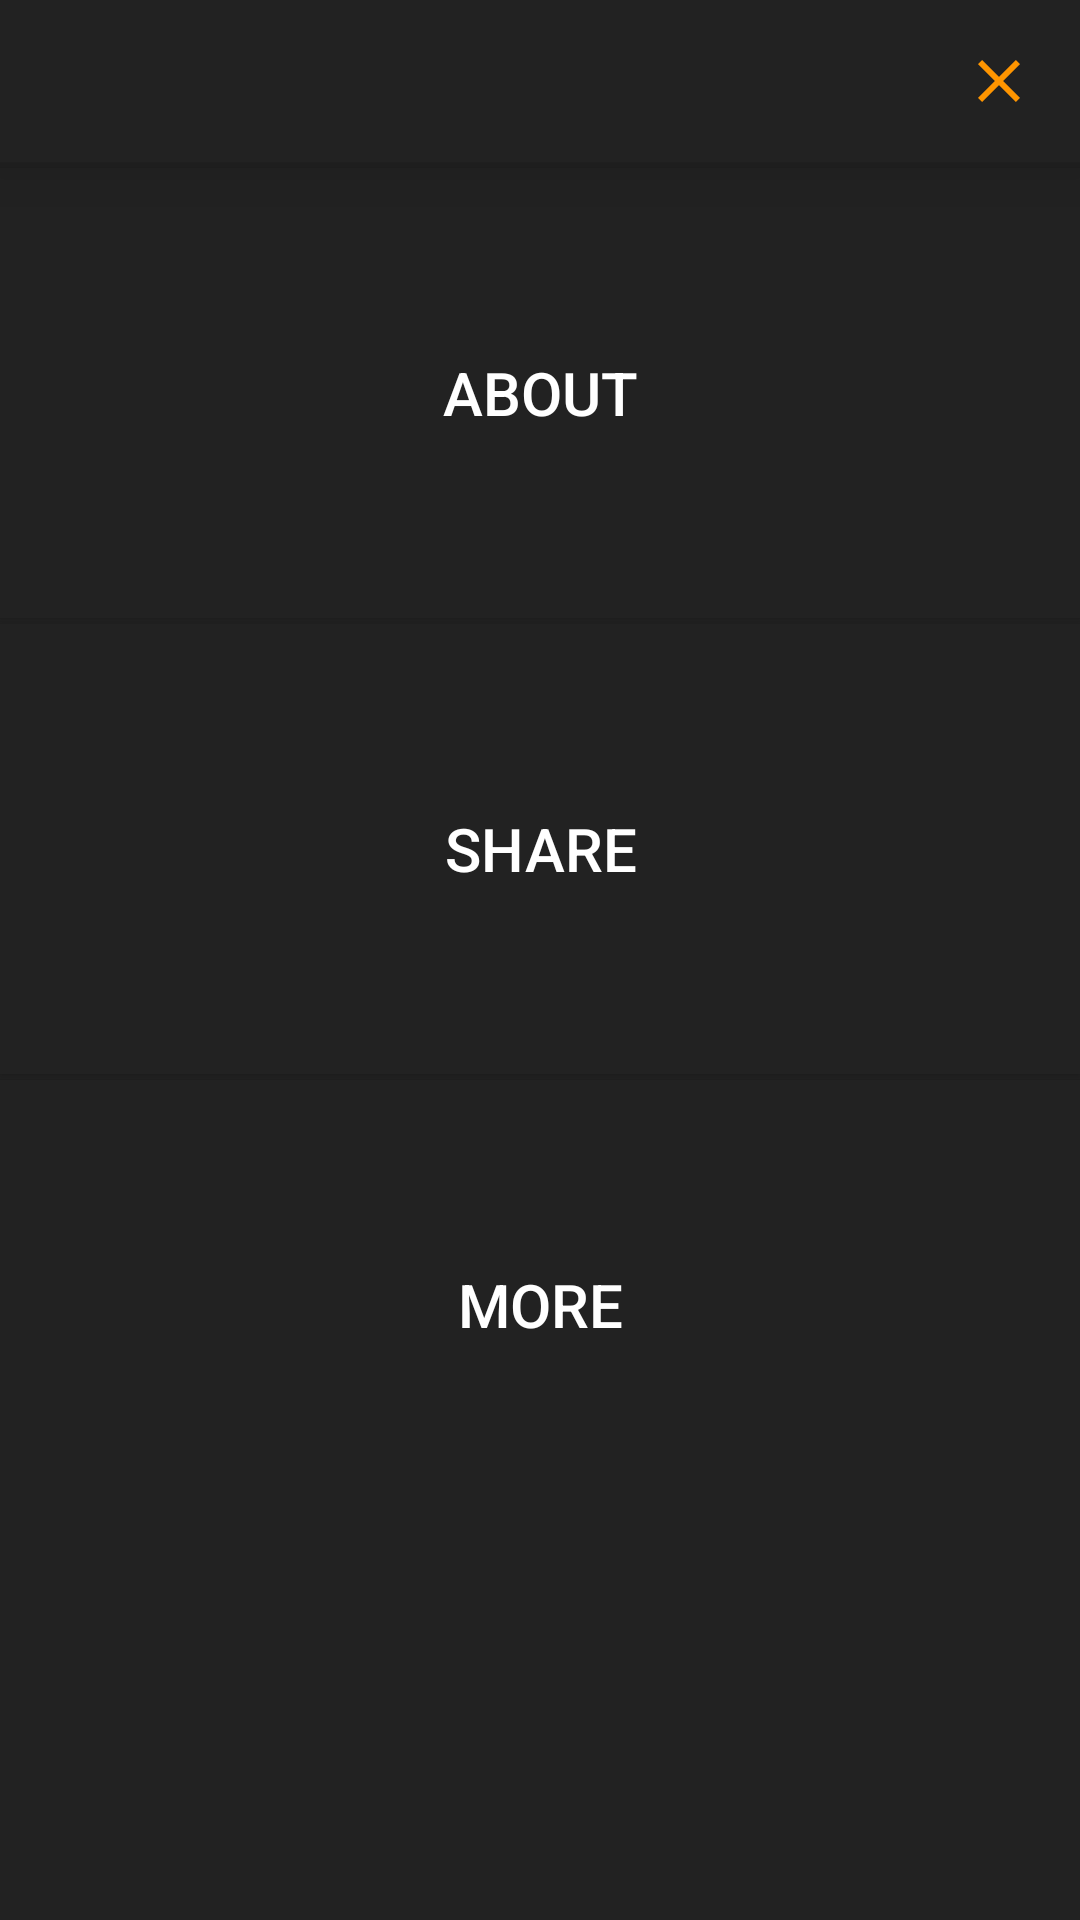

Icons on this 1080 x 1920 Android screen, each with its box as (x1, y1, x2, y2):
Cancel button: (978, 60, 1020, 102)
